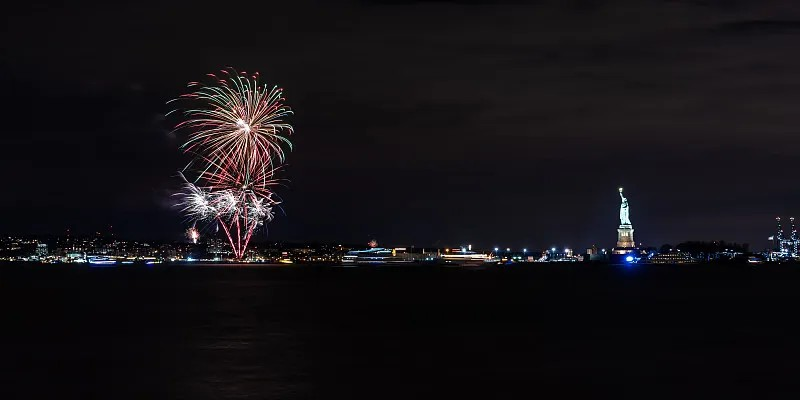SL: (616, 187, 635, 248)
